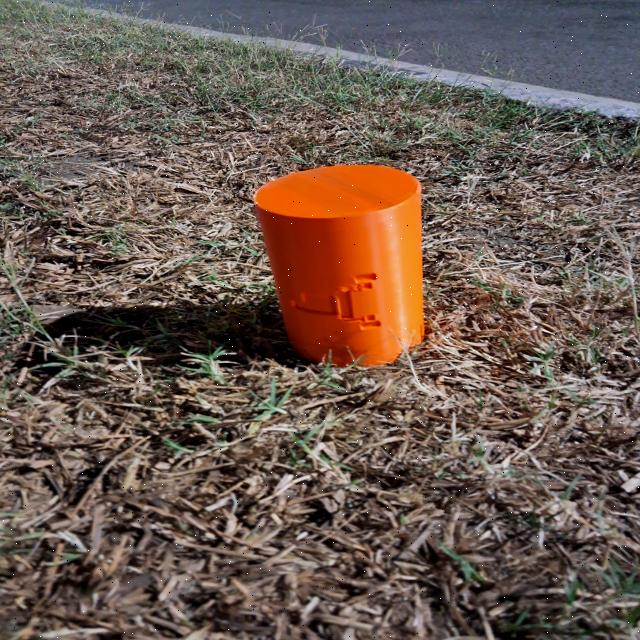Cylinder: (254, 163, 426, 368)
